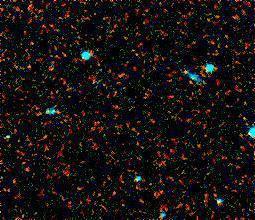star: (170, 54, 200, 84)
